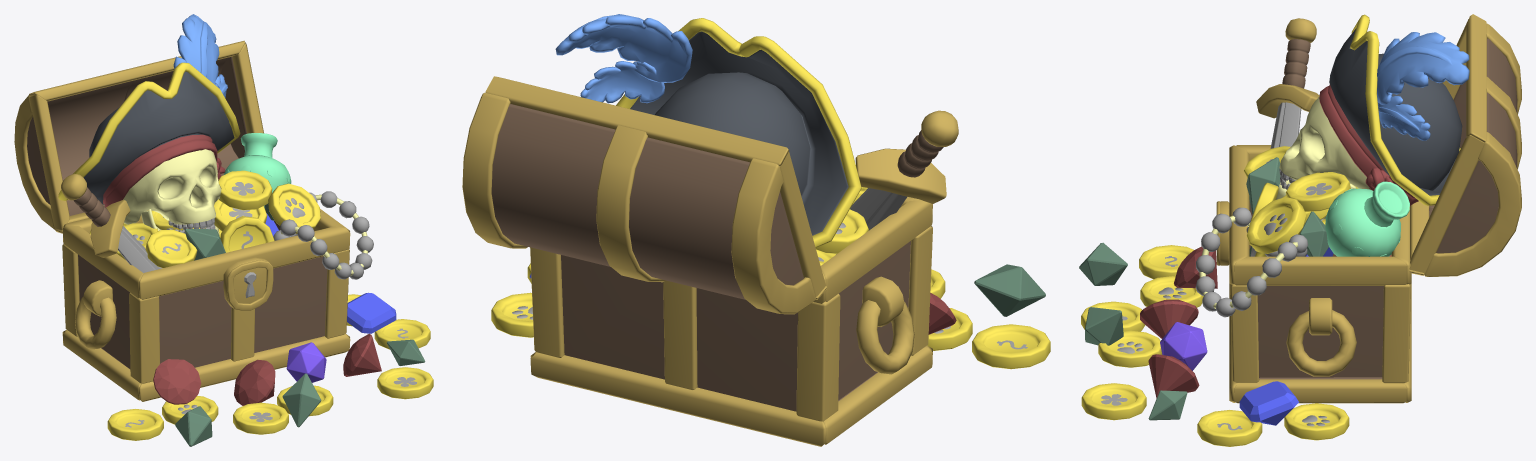
Rendered from Treasure_Hunt.fbx.
3 renders of one model, left to right at view 1: azimuth 30°, elevation 25°; view 2: azimuth 150°, elevation 25°; view 3: azimuth 270°, elevation 25°, orthographic. The views are drawn at different scales.
Visible parts, largest first — view 1: S_Treasure_Hunt, M_Treasure_Hunt; view 2: S_Treasure_Hunt, M_Treasure_Hunt, S_Treasure_Hunt_; view 3: S_Treasure_Hunt, M_Treasure_Hunt, S_Treasure_Hunt_.
Boxes of the visible parts, x1,y1,x2,y2 form: S_Treasure_Hunt: (14, 14, 433, 446); M_Treasure_Hunt: (27, 40, 350, 401); S_Treasure_Hunt: (491, 14, 1050, 374); M_Treasure_Hunt: (485, 76, 943, 446); S_Treasure_Hunt_: (462, 92, 527, 248); S_Treasure_Hunt: (1079, 14, 1521, 446); M_Treasure_Hunt: (1216, 14, 1498, 403); S_Treasure_Hunt_: (1424, 132, 1521, 276).
Bounding box in the file's own units: 639 × 513 × 622.
